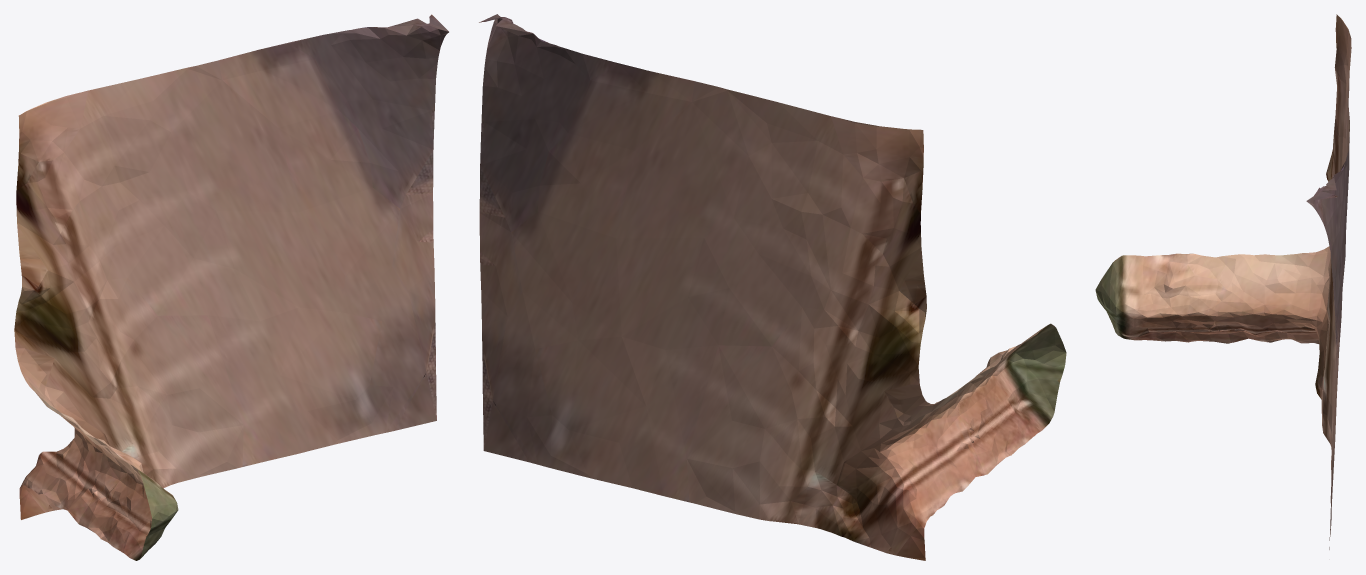
Rendered from tile_1_11.obj.
3 views of the same model, side by side, from view 1: azimuth 30°, elevation 25°; view 2: azimuth 150°, elevation 25°; view 3: azimuth 270°, elevation 25° (orthographic). The views are drawn at different scales.
Parts seen in each view (by area): view 1: texture_0; view 2: texture_0; view 3: texture_0.
Boxes of the visible parts, x1=… form: texture_0: x1=14, y1=14, x2=448, y2=560; texture_0: x1=479, y1=14, x2=1066, y2=560; texture_0: x1=1095, y1=14, x2=1351, y2=549.
Size of the model in its own units: 13.88 by 12.92 by 8.23.
1 material, 1 textured.
